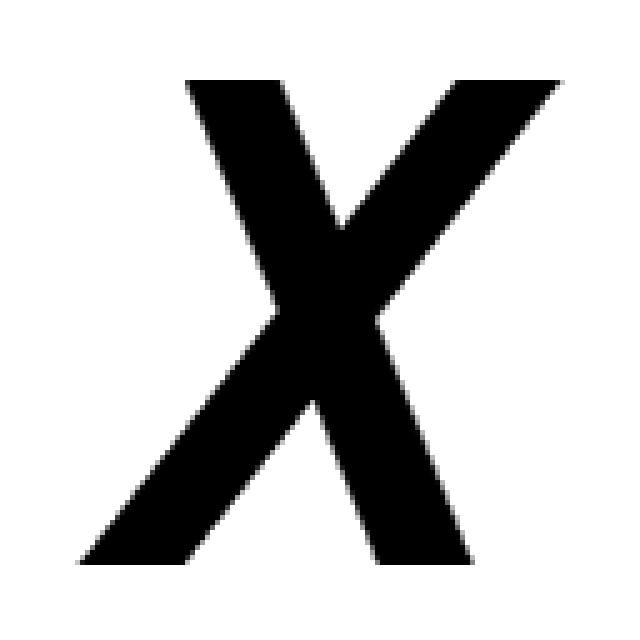X: (75, 70, 565, 570)
